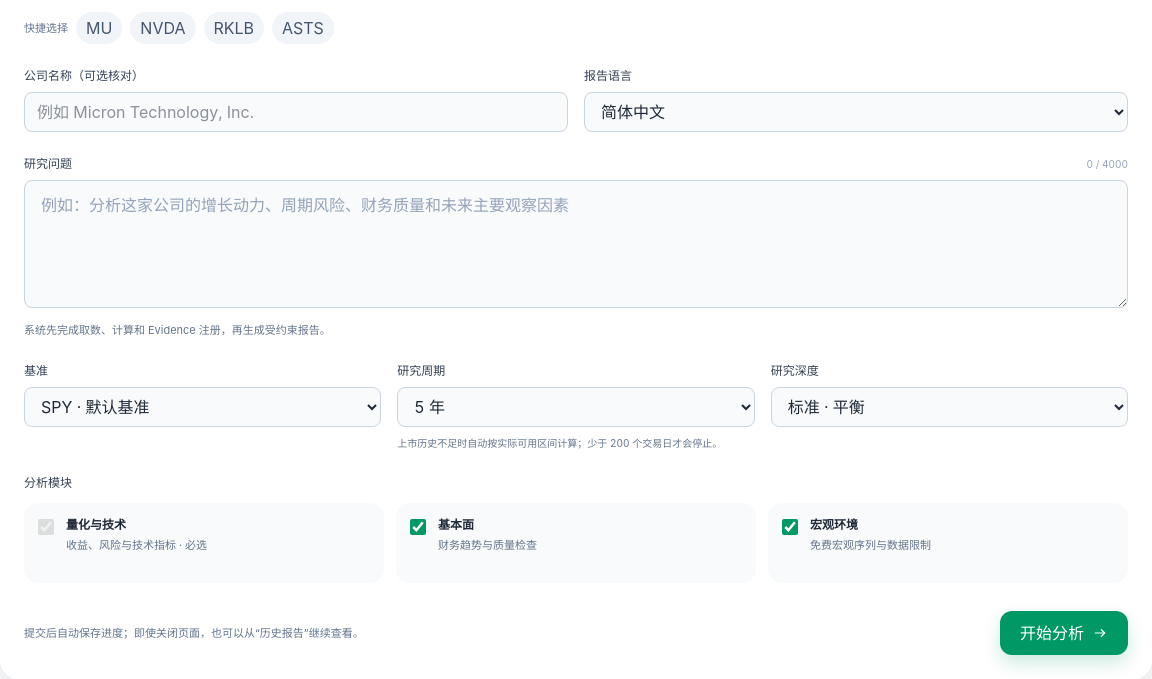
Test: ResearchForm › 拒绝少于十个字符的研究问题
(page scrolled)
Click the button "开始分析": coordinates (1064, 632) [1000,610,1128,654]
(page scrolled)
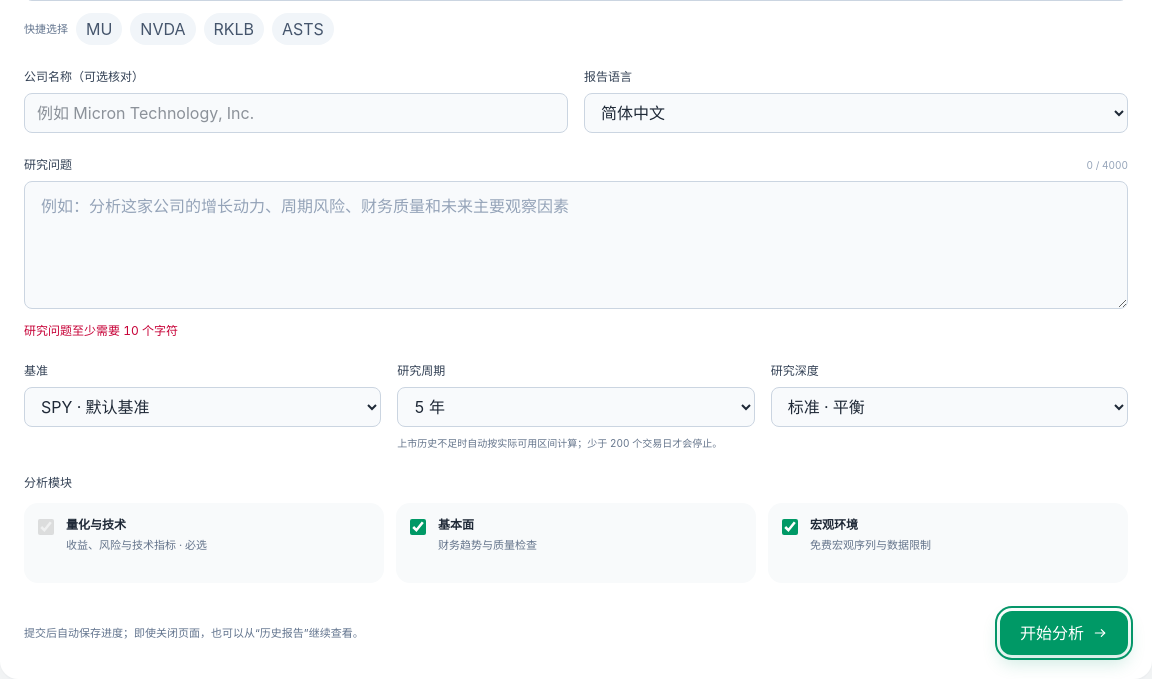
Result: the text "研究问题至少需要 10 个字符" is shown at [24,323,178,338]
